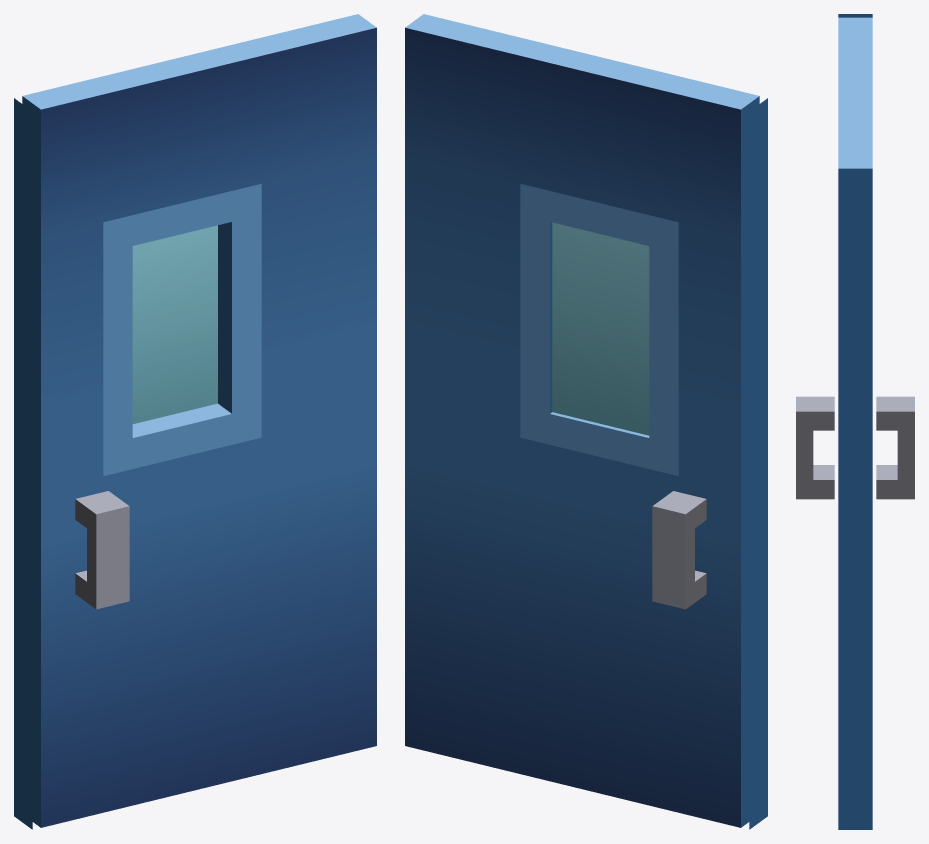
Rendered from door.fbx.
The picture shows the model from 3 angles, left to right: view 1: azimuth 30°, elevation 25°; view 2: azimuth 150°, elevation 25°; view 3: azimuth 270°, elevation 25°; orthographic projection. The views are drawn at different scales.
Parts seen in each view (by area): view 1: laundry model.002; view 2: laundry model.002; view 3: laundry model.002.
Part boxes in pixels (x1,y1,x2,y2): laundry model.002: [14, 14, 376, 829]; laundry model.002: [405, 14, 767, 829]; laundry model.002: [796, 14, 914, 829].
Size of the model in its own units: 101 by 32.66 by 201.
1 material, 1 textured.
